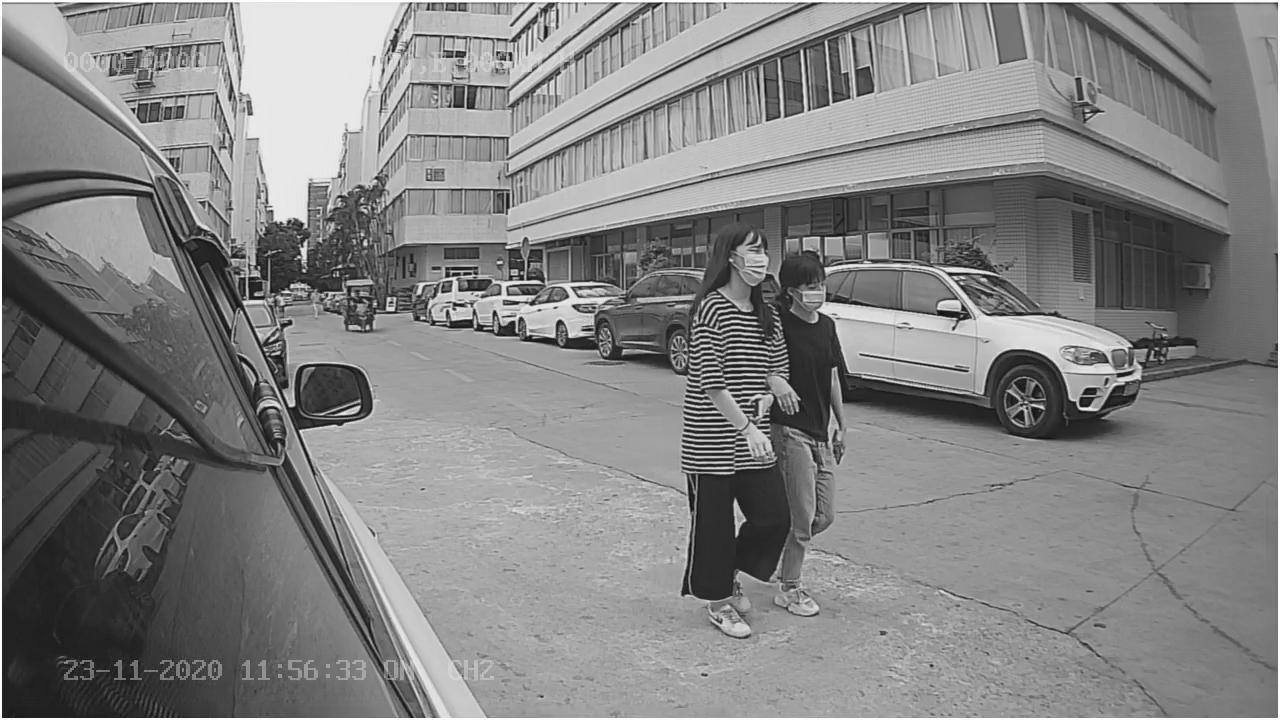person: (676, 223, 784, 649), (767, 254, 852, 615)
